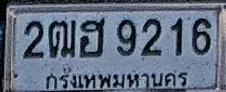1: (170, 17, 183, 55)
2: (141, 18, 161, 56), (24, 20, 44, 58)
6: (192, 17, 211, 54)
9: (117, 18, 136, 56)
A18: (48, 19, 76, 57)
A44: (79, 18, 105, 58)
BKK: (40, 69, 192, 92)
